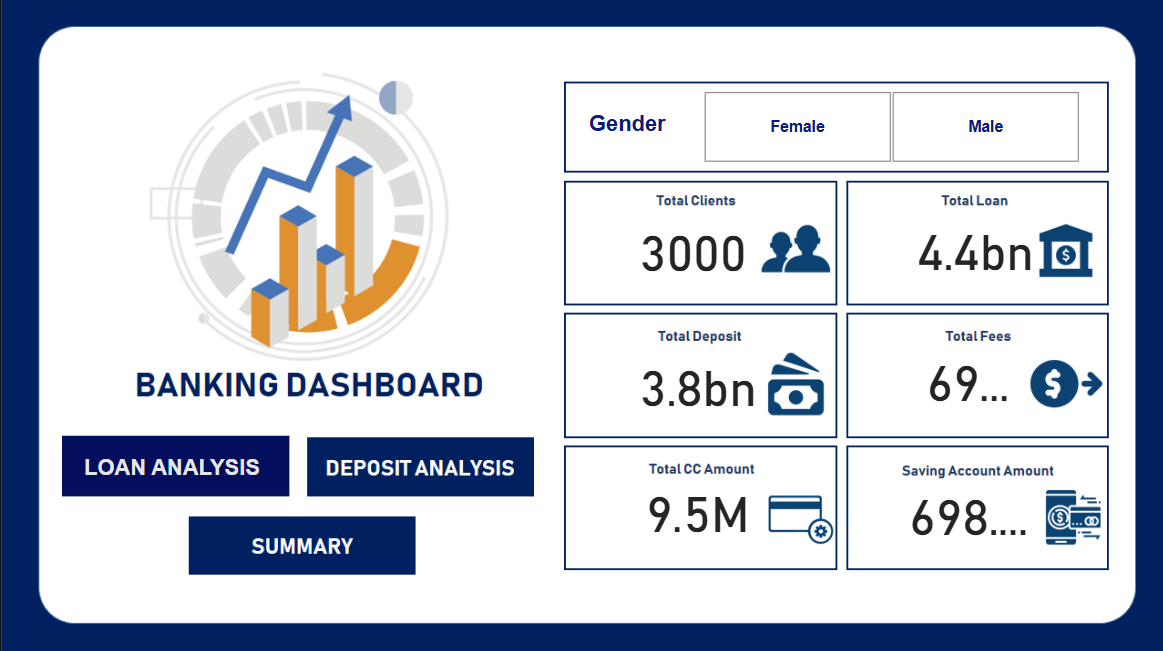

The dashboard page shown, as its layout file describes it:
{"tool":"powerbi","page":{"name":"Home","canvas":[1280,720],"ordinal":0},"visuals":[{"type":"card","fields":{"Values":["CountNonNull(Banking.Name)"]},"box":[679.2,222.3,159.2,105.7],"z":0},{"type":"slicer","fields":{"Values":["Banking.GenderId"]},"box":[745.1,97.4,461.1,90.6],"z":1000},{"type":"textbox","box":[639.5,120.8,105.7,45.3],"z":2000},{"type":"card","fields":{"Values":["Banking.Total Loan"]},"box":[966.4,226.6,205.3,95.5],"z":3000},{"type":"card","fields":{"Values":["Banking.Total Deposit"]},"box":[665.7,377.7,198.1,91.2],"z":4000},{"type":"card","fields":{"Values":["Sum(Banking.Fee Amount)"]},"box":[985.3,343.1,149.6,149.6],"z":5000},{"type":"card","fields":{"Values":["Sum(Banking.Credit Card Balance)"]},"box":[666.9,513.2,193.5,97.4],"z":6000},{"type":"card","fields":{"Values":["Sum(Banking.Saving Accounts)"]},"box":[957.8,492.6,205.8,144.1],"z":7000},{"type":"textbox","title":"LOAN ANALYSIS","box":[65.6,481.8,249.4,65.6],"z":8000},{"type":"textbox","box":[85.5,497.5,249.4,38.5],"z":9000},{"type":"actionButton","box":[65.6,481.8,249.4,65.6],"z":10000},{"type":"actionButton","box":[335,481.8,250.9,65.6],"z":11000},{"type":"actionButton","box":[209.9,569.5,240.1,56.3],"z":12000}]}

Visuals, with their boxes in screenshot pixels (x1, y1, x2, y2), scaled from the page's 1280x720 canvas onto the 1163x651 screenshot:
card - CountNonNull(Banking.Name): bbox(617, 201, 762, 297)
slicer - Banking.GenderId: bbox(677, 88, 1096, 170)
textbox: bbox(581, 109, 677, 150)
card - Banking.Total Loan: bbox(878, 205, 1065, 291)
card - Banking.Total Deposit: bbox(605, 342, 785, 424)
card - Sum(Banking.Fee Amount): bbox(895, 310, 1031, 445)
card - Sum(Banking.Credit Card Balance): bbox(606, 464, 782, 552)
card - Sum(Banking.Saving Accounts): bbox(870, 445, 1057, 576)
"LOAN ANALYSIS" textbox: bbox(60, 436, 286, 495)
textbox: bbox(78, 450, 304, 485)
actionButton: bbox(60, 436, 286, 495)
actionButton: bbox(304, 436, 532, 495)
actionButton: bbox(191, 515, 409, 566)
